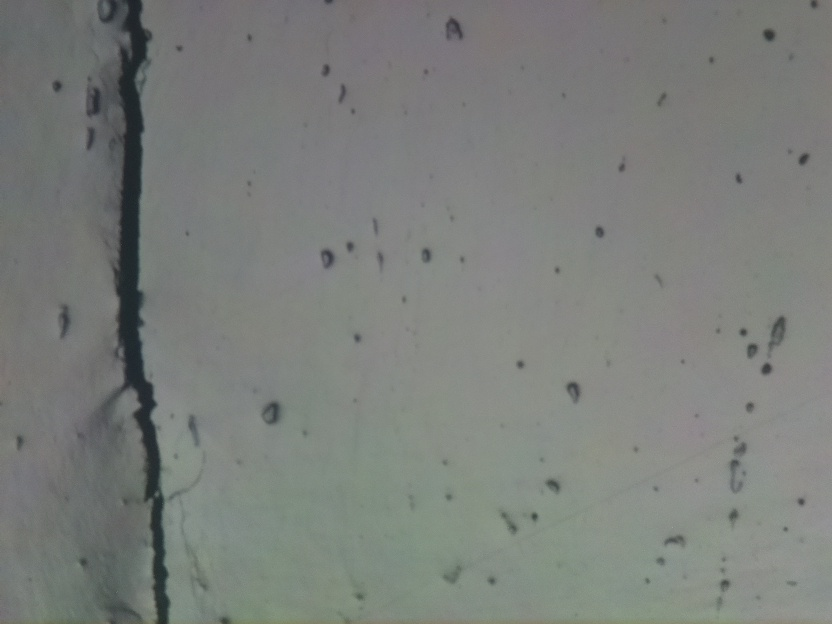crack: (113, 0, 170, 624)
